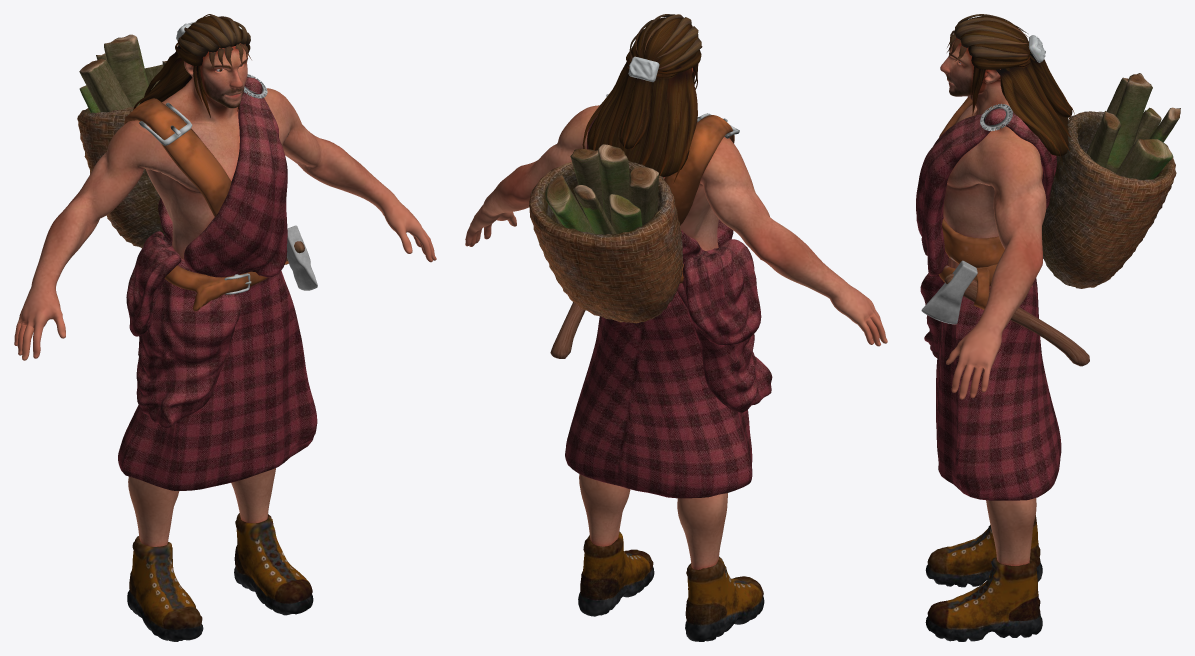
File: lumberjack.glb
3 renders of one model, left to right at view 1: azimuth 30°, elevation 25°; view 2: azimuth 150°, elevation 25°; view 3: azimuth 270°, elevation 25°, orthographic.
Visible parts, largest first — view 1: CharaHD_Kilt, CharaHD_Body1, CharaHD_buchesbasket, CharaHD_Cheveux; view 2: CharaHD_Kilt, CharaHD_Body1, CharaHD_buchesbasket, CharaHD_Cheveux; view 3: CharaHD_Kilt, CharaHD_Body1, CharaHD_buchesbasket, CharaHD_Cheveux.
Part boxes in pixels (bbox=[...]): CharaHD_Kilt: bbox=[118, 74, 317, 490]; CharaHD_Body1: bbox=[14, 43, 436, 641]; CharaHD_buchesbasket: bbox=[77, 34, 166, 248]; CharaHD_Cheveux: bbox=[133, 14, 251, 117]; CharaHD_Kilt: bbox=[550, 94, 772, 498]; CharaHD_Body1: bbox=[465, 63, 887, 641]; CharaHD_buchesbasket: bbox=[529, 144, 683, 323]; CharaHD_Cheveux: bbox=[582, 14, 702, 183]; CharaHD_Kilt: bbox=[916, 97, 1089, 500]; CharaHD_Body1: bbox=[925, 37, 1046, 641]; CharaHD_buchesbasket: bbox=[1042, 73, 1180, 288]; CharaHD_Cheveux: bbox=[947, 14, 1075, 162].
Bounding box in the file's own units: 152 × 208 × 84.52.
Materials: 7 (7 with a texture image).
